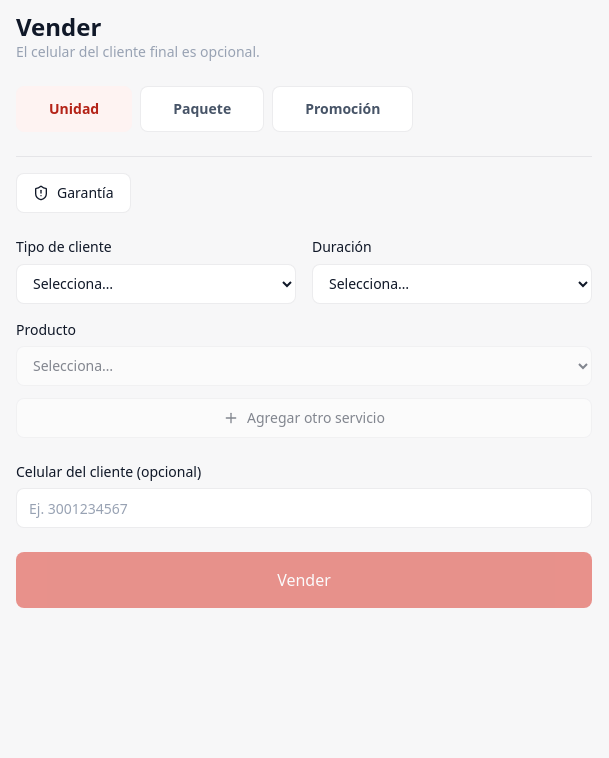
it: Garantía (F4.6) › cerrar el tile (segundo clic) limpia la respuesta anterior
Click the button "Garantía". click: point(73, 193)
box: [16,173,131,213]
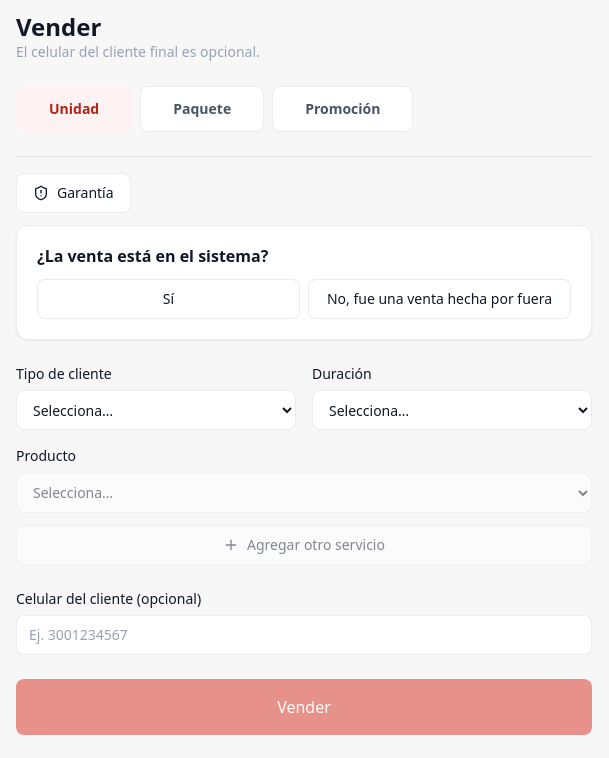
Click the button "Sí". click: point(168, 299)
box: [37,279,300,319]
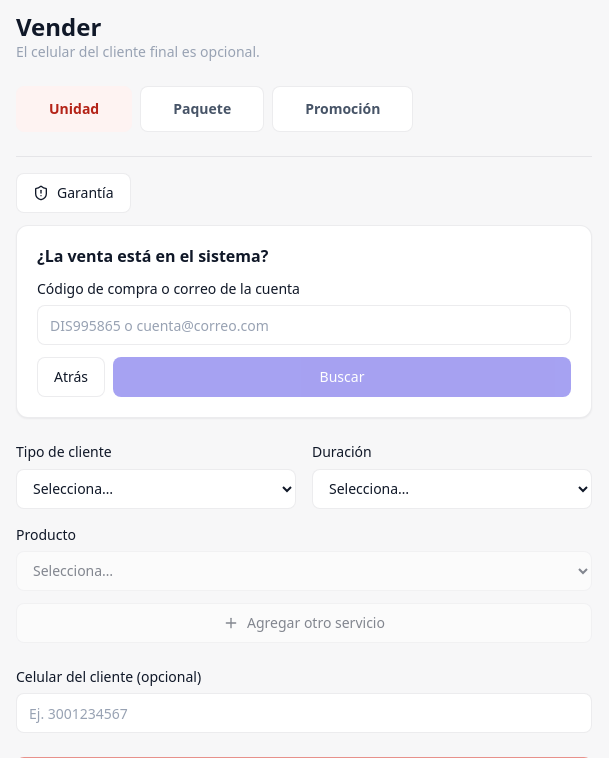
Expected: the field labelled "Código de compra o correo de la cuenta" is shown, [37,305,571,345]
Click the button "Garantía". click: point(73, 193)
box: [16,173,131,213]
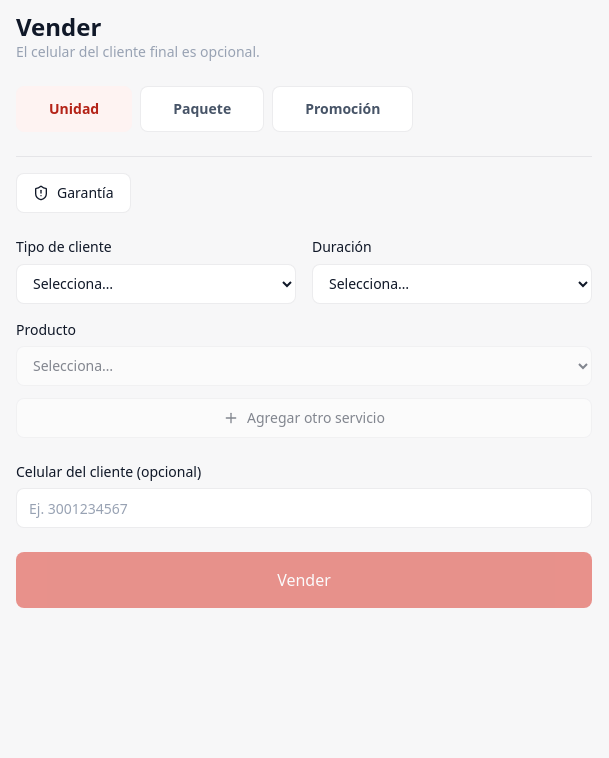
Click the button "Garantía". click: point(73, 193)
box: [16,173,131,213]
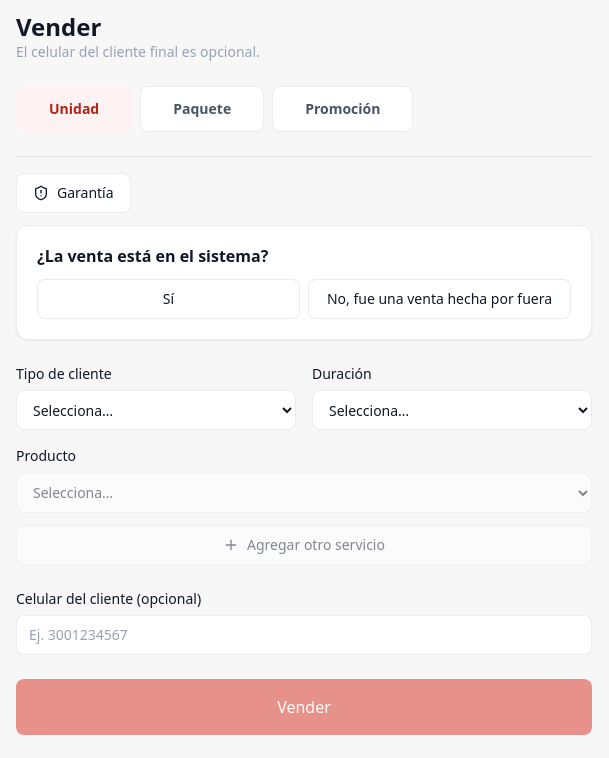
Expected: the label labelled "Código de compra o correo de la cuenta" is not shown
Expected: the button "Sí" is shown, [37,279,300,319]
